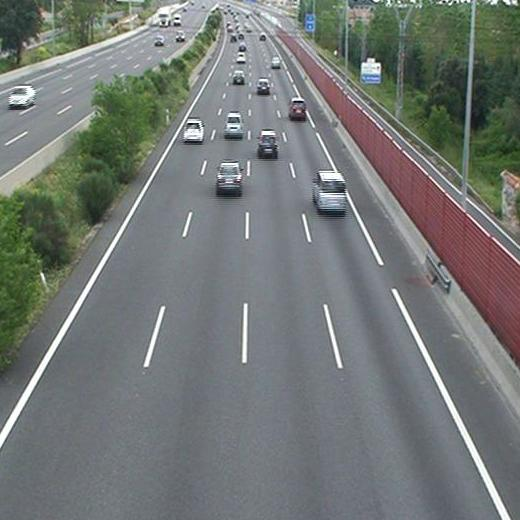car: (313, 171, 346, 211), (216, 163, 242, 191), (258, 131, 278, 154), (224, 113, 243, 137), (183, 120, 203, 142), (289, 98, 307, 118), (257, 79, 269, 95), (232, 71, 244, 86), (271, 57, 281, 67), (236, 52, 246, 61), (237, 43, 245, 52)
